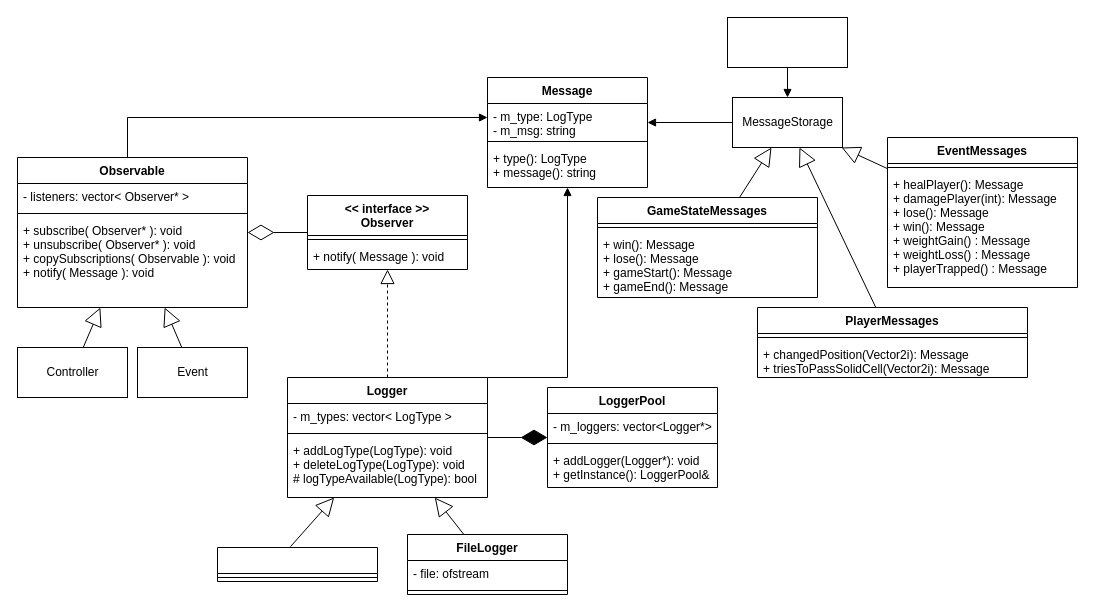
Some shapes in this 1095 by 612 pixel diagram are drawn without their labels. Here are the shapes that lost their labels. From the top down, the centre of each, then its label:
At [787,42]: "Observable objects".
At [297,564]: "ConsoleLogger".
